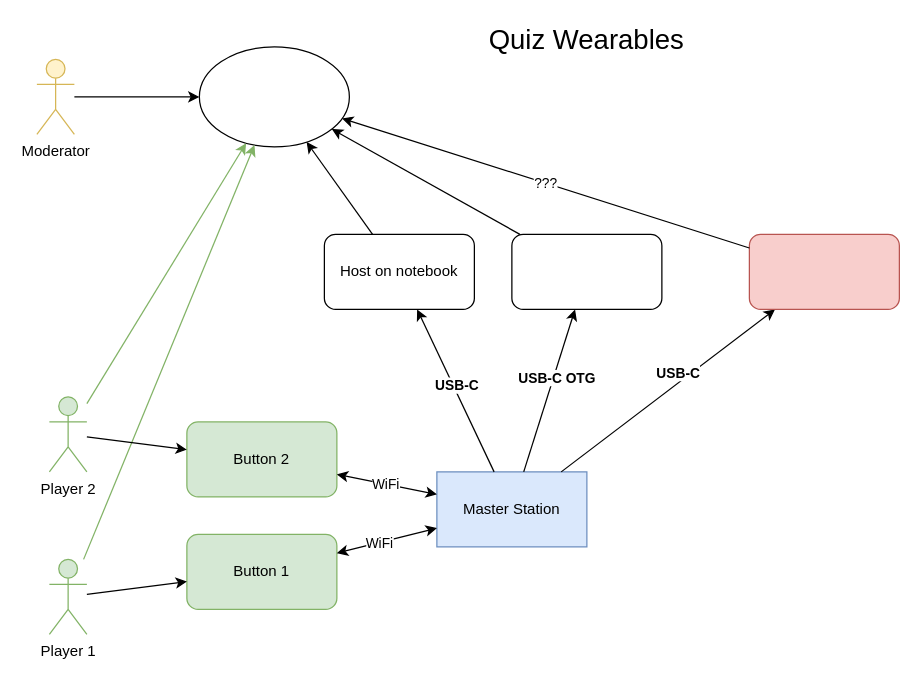
Image size: 921x681. Some labels were removed from this diagram. Each missing label, with the box of its shape:
Host on Android: (511, 233, 662, 309)
QuizCloud: (198, 46, 349, 147)
Single-Board Computer: (748, 233, 899, 309)
